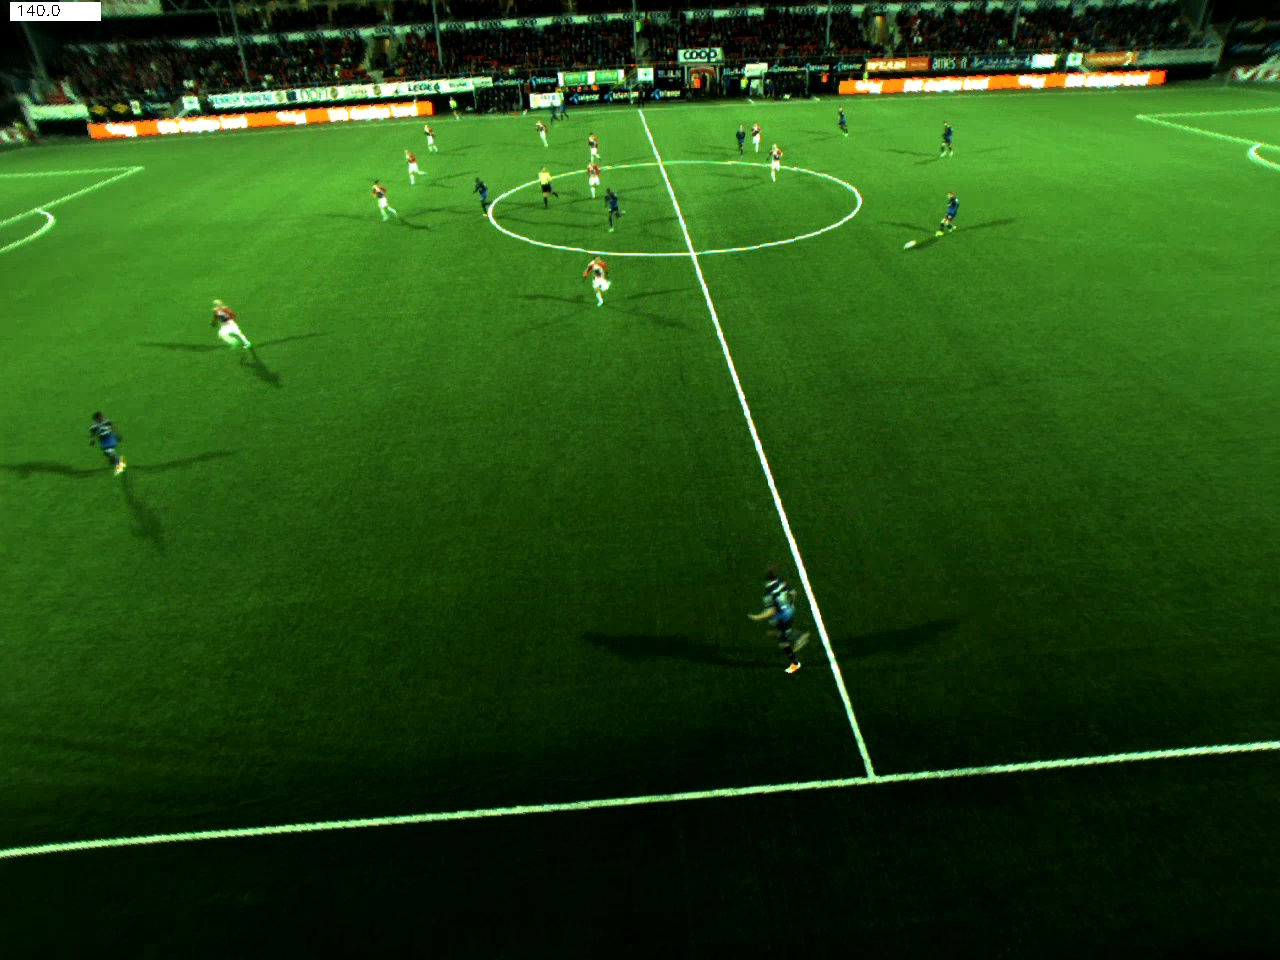blue: (748, 566, 827, 682), (88, 400, 133, 487), (469, 174, 505, 221), (941, 185, 966, 250), (599, 185, 630, 232), (935, 117, 959, 164), (834, 103, 858, 139), (733, 120, 748, 161)
red: (203, 295, 257, 364), (360, 178, 403, 226), (585, 249, 619, 308), (764, 145, 789, 188), (399, 149, 427, 183), (417, 122, 444, 154), (533, 116, 554, 153), (585, 132, 606, 166), (584, 161, 602, 197), (749, 122, 762, 154)
